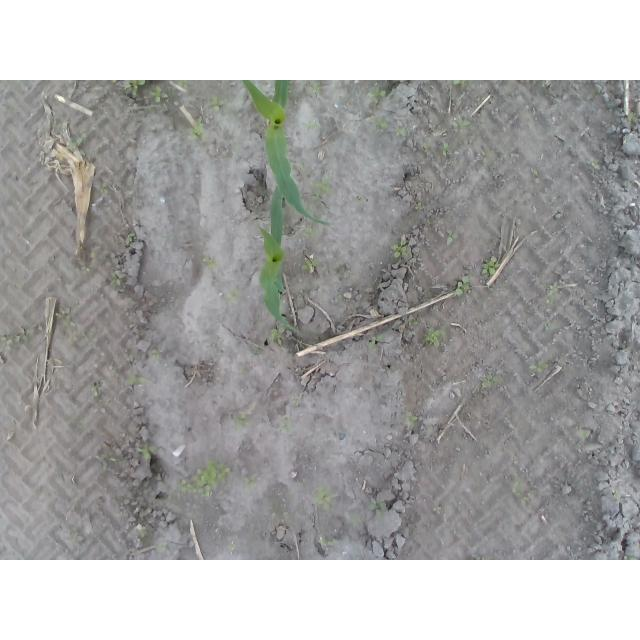Maize: (242, 81, 333, 228), (262, 183, 297, 333)
Weeds: (179, 458, 232, 498), (61, 306, 79, 344), (311, 484, 334, 512), (479, 256, 501, 277), (311, 175, 334, 194), (69, 126, 87, 150), (390, 237, 410, 258), (512, 478, 528, 504), (450, 111, 472, 129), (123, 80, 146, 97), (422, 328, 443, 346), (454, 275, 470, 297), (2, 334, 31, 346), (546, 281, 560, 304), (367, 497, 386, 513), (480, 369, 496, 388), (192, 114, 204, 139), (528, 360, 548, 375), (137, 443, 155, 459), (367, 332, 385, 348), (109, 273, 127, 288), (349, 511, 363, 529), (301, 257, 319, 271), (242, 473, 257, 489), (89, 384, 103, 401), (233, 416, 247, 433), (211, 95, 224, 113), (149, 85, 162, 103), (270, 328, 283, 345), (375, 116, 390, 130), (628, 111, 639, 130), (279, 415, 290, 434), (310, 80, 322, 96), (320, 534, 339, 544), (304, 227, 321, 238), (392, 127, 409, 138), (106, 456, 126, 465), (125, 232, 136, 248), (227, 289, 239, 303), (407, 411, 418, 426), (302, 120, 320, 129), (128, 375, 144, 385), (80, 263, 95, 273), (96, 181, 108, 193), (476, 151, 488, 163), (367, 90, 385, 98), (154, 543, 167, 553), (159, 233, 177, 240), (440, 142, 449, 156), (78, 417, 86, 431), (151, 348, 161, 359), (207, 259, 217, 270), (579, 429, 589, 440), (409, 321, 424, 328), (447, 80, 464, 86), (432, 504, 442, 514), (623, 554, 639, 560), (177, 80, 189, 88), (592, 159, 601, 169), (424, 142, 433, 152), (414, 202, 424, 211), (544, 321, 552, 331), (447, 235, 454, 245)
